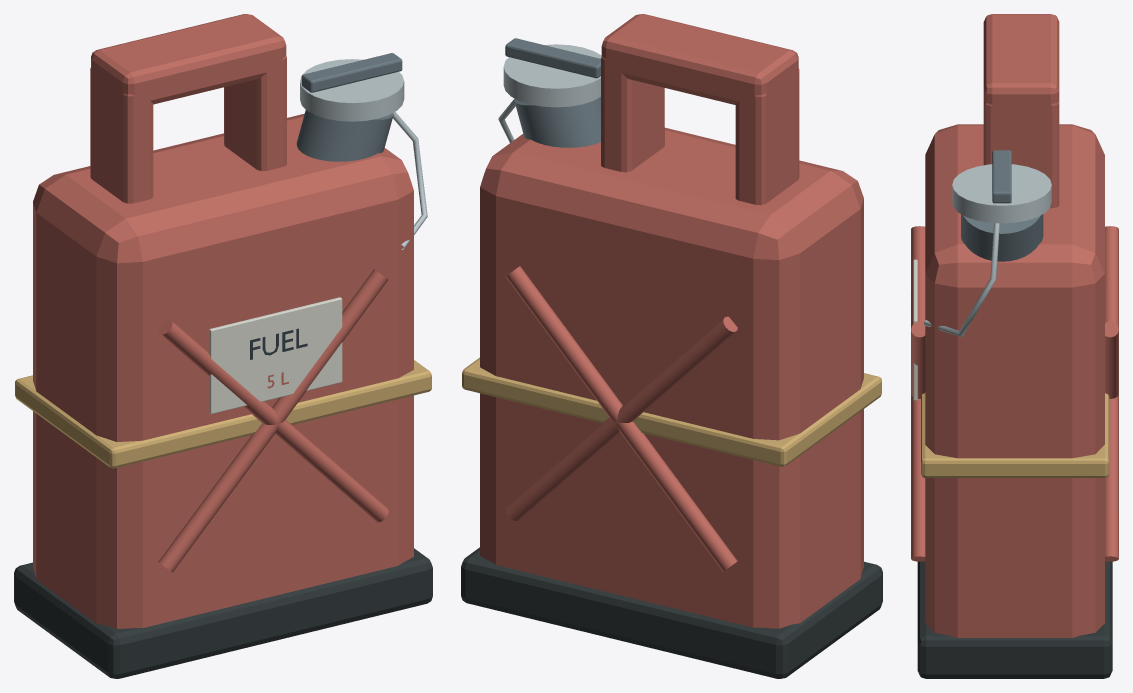
Rendered from loot_fuel.glb.
The picture shows the model from 3 angles, left to right: view 1: azimuth 30°, elevation 25°; view 2: azimuth 150°, elevation 25°; view 3: azimuth 270°, elevation 25°; orthographic projection. The views are drawn at different scales.
Visible parts, largest first — view 1: loot_fuel; view 2: loot_fuel; view 3: loot_fuel.
Boxes of the visible parts, x1,y1,x2,y2 form: loot_fuel: (14,14,432,678); loot_fuel: (461,14,882,678); loot_fuel: (911,14,1118,678).
Size of the model in its own units: 0.1758 by 0.277 by 0.0961.
